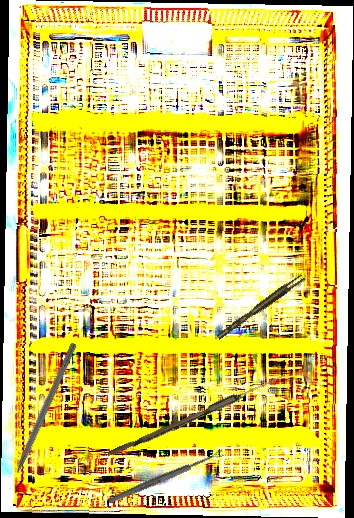Hook Surgical: (4, 341, 78, 492)
Surgical Spoon: (107, 370, 286, 461), (107, 449, 225, 505)
Tissue Forceps: (213, 273, 308, 340)
